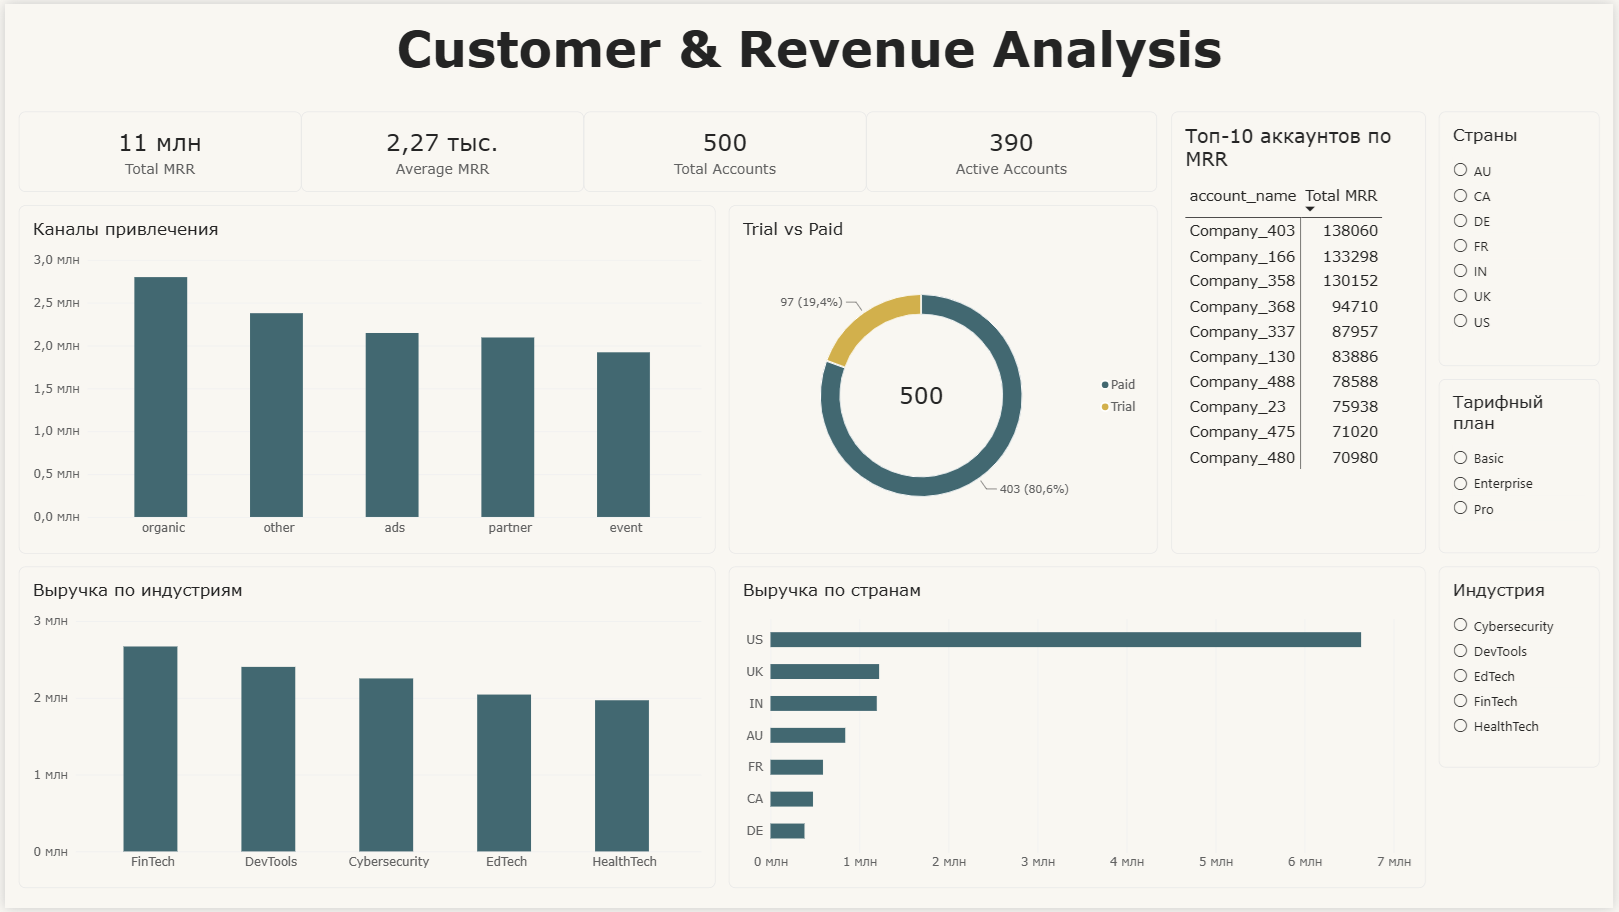

The page's visual inventory and layout, read from the dashboard file:
{"tool":"powerbi","page":{"name":"Customer & Revenue Analysis","canvas":[1920,1080],"ordinal":1},"visuals":[{"type":"card","fields":{"Values":["subscriptions.Total MRR"]},"box":[16,128,337.7,96],"z":0},{"type":"card","fields":{"Values":["subscriptions.Average MRR"]},"box":[353.7,128,337.7,96],"z":1000},{"type":"card","fields":{"Values":["accounts.Total Accounts"]},"box":[691.3,128,337.7,96],"z":2000},{"type":"card","fields":{"Values":["accounts.Active Accounts"]},"box":[1029,128,347,96],"z":3000},{"type":"barChart","title":"Выручка по странам","fields":{"Category":["accounts.country"],"Y":["subscriptions.Total MRR"]},"box":[864,672,832,384],"z":4000},{"type":"columnChart","title":"Выручка по индустриям","fields":{"Category":["accounts.industry"],"Y":["subscriptions.Total MRR"]},"box":[16,672,832,384],"z":5000},{"type":"donutChart","title":"Trial vs Paid","fields":{"Category":["accounts.Trial vs Paid"],"Y":["accounts.Total Accounts"]},"box":[864,240,512,416],"z":6000},{"type":"columnChart","title":"Каналы привлечения","fields":{"Category":["accounts.referral_source"],"Y":["subscriptions.Total MRR"]},"box":[16,240,832,416],"z":7000},{"type":"pivotTable","title":"Топ-10 аккаунтов по MRR","fields":{"Rows":["accounts.account_name"],"Values":["subscriptions.Total MRR"]},"box":[1392,128,304,528],"z":8000},{"type":"listSlicer","title":"Тарифный план","fields":{"Values":["accounts.plan_tier"]},"box":[1712,448,192,208],"z":9000},{"type":"listSlicer","title":"Страны","fields":{"Values":["accounts.country"]},"box":[1712,128,192,304],"z":10000},{"type":"listSlicer","title":"Индустрия","fields":{"Values":["accounts.industry"]},"box":[1712,672,192,240],"z":11000},{"type":"textbox","box":[16,16,1888,96],"z":12000}]}

Visuals, with their boxes in screenshot pixels (x1, y1, x2, y2), scaled from the page's 1920x1080 canvas onto the 1619x912 screenshot:
card - subscriptions.Total MRR: [13,108,298,189]
card - subscriptions.Average MRR: [298,108,583,189]
card - accounts.Total Accounts: [583,108,868,189]
card - accounts.Active Accounts: [868,108,1160,189]
"Выручка по странам" barChart: [729,567,1430,892]
"Выручка по индустриям" columnChart: [13,567,715,892]
"Trial vs Paid" donutChart: [729,203,1160,554]
"Каналы привлечения" columnChart: [13,203,715,554]
"Топ-10 аккаунтов по MRR" pivotTable: [1174,108,1430,554]
"Тарифный план" listSlicer: [1444,378,1606,554]
"Страны" listSlicer: [1444,108,1606,365]
"Индустрия" listSlicer: [1444,567,1606,770]
textbox: [13,14,1606,95]
